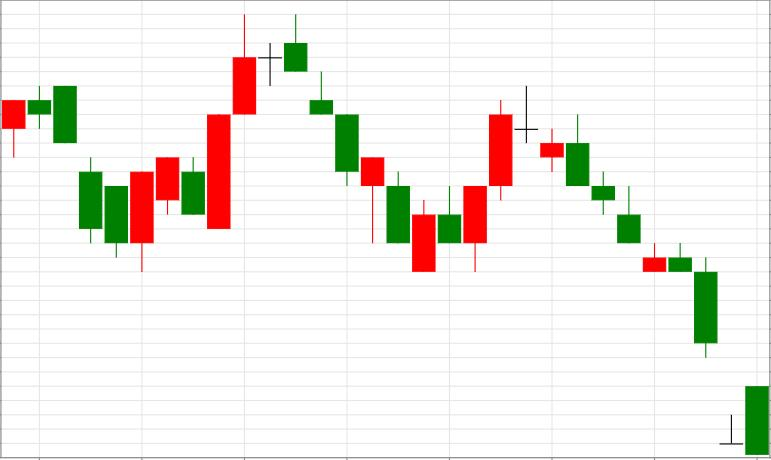bullish_engulfing_rise: (258, 14, 486, 273), (28, 85, 153, 272)
hammer_rise: (259, 14, 384, 244)
